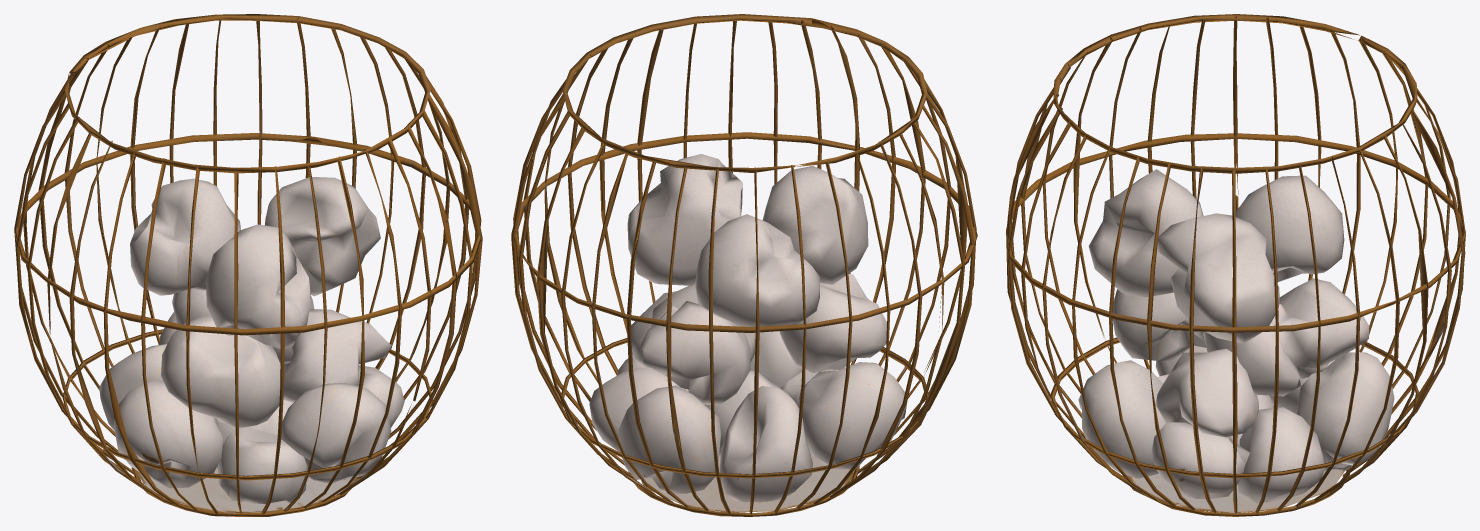
File: bin.glb
3 views of the same model, side by side, from view 1: azimuth 30°, elevation 25°; view 2: azimuth 150°, elevation 25°; view 3: azimuth 270°, elevation 25° (orthographic).
Bounding box in the file's own units: 1 × 0.908 × 1.
Materials: 1 (1 with a texture image).
